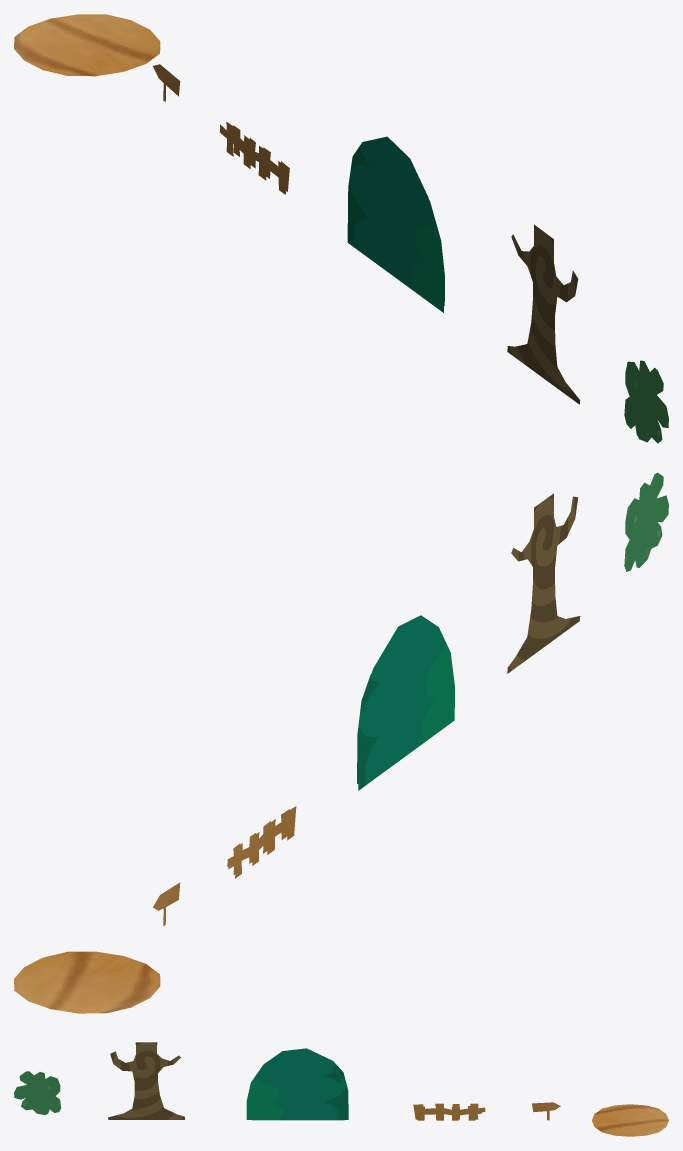
File: DecoArbfbx.fbx
The picture shows the model from 3 angles, top to bottom: view 1: azimuth 30°, elevation 25°; view 2: azimuth 150°, elevation 25°; view 3: azimuth 270°, elevation 25°; orthographic projection. The views are drawn at different scales.
Parts seen in each view (by area): view 1: Plane.001, Plane.005, Plane.006, Plane.007, Plane.003; view 2: Plane.001, Plane.005, Plane.006, Plane.007, Plane.003; view 3: Plane, Plane.006, Plane.005, Plane.007, Plane.001, Plane.002, Plane.003, Plane.004.
Part boxes in pixels (x1=…): Plane.001: x1=347, y1=136, x2=444, y2=312; Plane.005: x1=14, y1=14, x2=160, y2=76; Plane.006: x1=507, y1=224, x2=580, y2=404; Plane.007: x1=624, y1=360, x2=668, y2=443; Plane.003: x1=219, y1=121, x2=287, y2=194; Plane.001: x1=358, y1=615, x2=454, y2=790; Plane.005: x1=14, y1=951, x2=160, y2=1013; Plane.006: x1=507, y1=493, x2=580, y2=673; Plane.007: x1=624, y1=472, x2=668, y2=571; Plane.003: x1=228, y1=806, x2=296, y2=878; Plane: x1=251, y1=1056, x2=344, y2=1120; Plane.006: x1=108, y1=1042, x2=184, y2=1119; Plane.005: x1=592, y1=1104, x2=668, y2=1136; Plane.007: x1=14, y1=1071, x2=61, y2=1114; Plane.001: x1=246, y1=1048, x2=348, y2=1119; Plane.002: x1=415, y1=1106, x2=481, y2=1120; Plane.003: x1=413, y1=1103, x2=485, y2=1119; Plane.004: x1=532, y1=1102, x2=560, y2=1120.
Size of the model in its own units: 183 by 208 by 1557.
8 materials, 8 textured.
